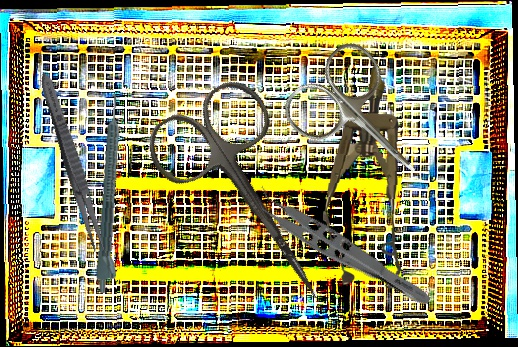Dressing Forceps: (34, 70, 113, 262)
Handpiece: (94, 93, 131, 295)
Iris Scissors: (137, 69, 368, 334), (274, 33, 453, 211)
Speculum: (318, 63, 419, 291)
Tissue Forceps: (246, 181, 442, 311)
